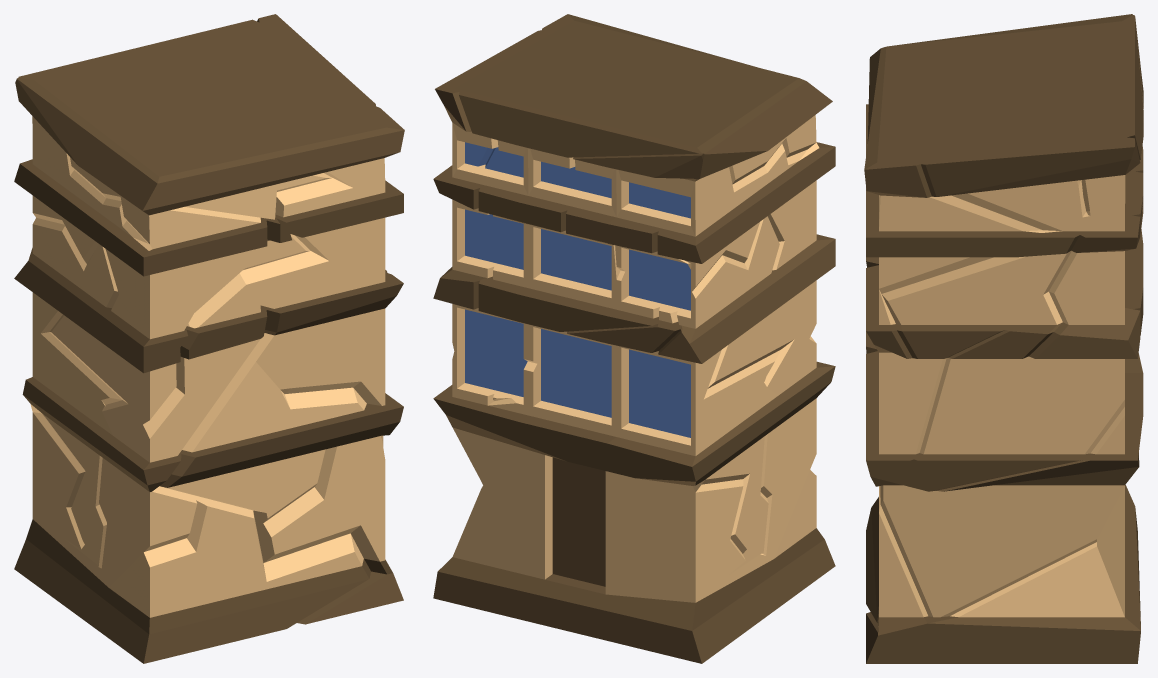
File: NewestBuilding2.fbx
3 renders of one model, left to right at view 1: azimuth 30°, elevation 25°; view 2: azimuth 150°, elevation 25°; view 3: azimuth 270°, elevation 25°, orthographic. The views are drawn at different scales.
Parts seen in each view (by area): view 1: Cube; view 2: Cube; view 3: Cube.
Part boxes in pixels (left/top/right/bottom): Cube: left=14, top=14, right=404, bottom=663; Cube: left=433, top=14, right=835, bottom=663; Cube: left=864, top=14, right=1143, bottom=663.
Size of the model in its own units: 795 by 1437 by 704.
